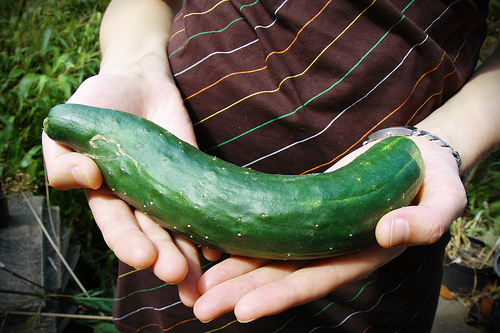cucumber: (42, 102, 425, 260)
